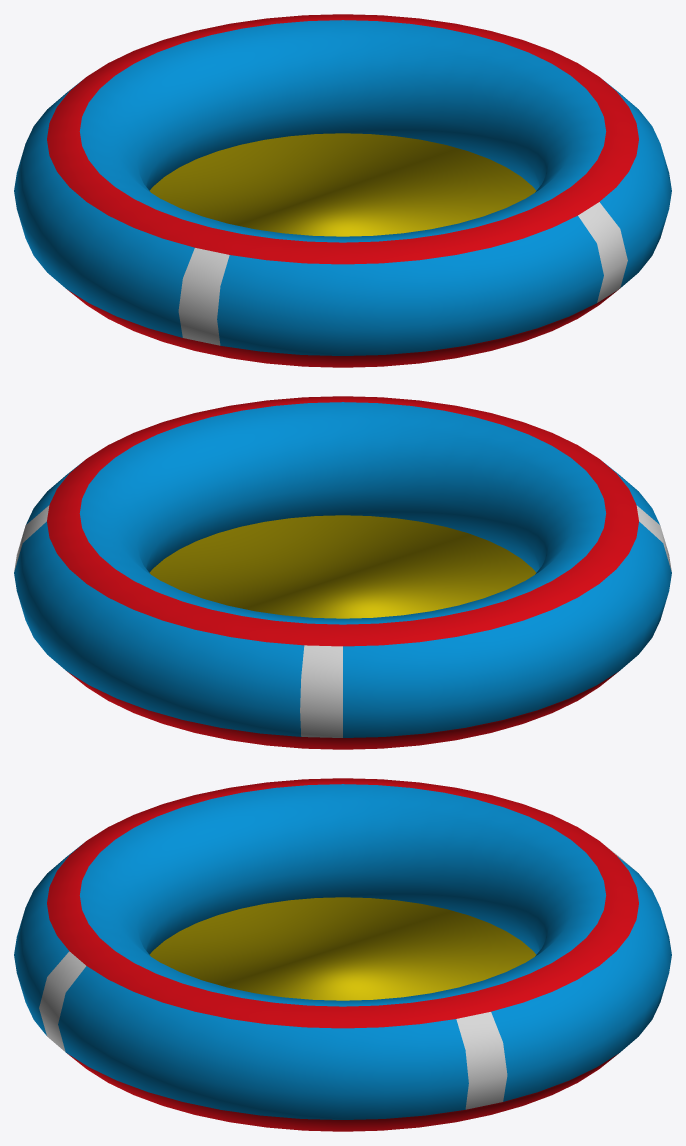
Rendered from OriginalTop.fbx.
3 renders of one model, top to bottom at view 1: azimuth 30°, elevation 25°; view 2: azimuth 150°, elevation 25°; view 3: azimuth 270°, elevation 25°, orthographic.
Visible parts, largest first — view 1: Top; view 2: Top; view 3: Top.
Boxes of the visible parts, <box> form: Top: <box>14,14,671,367</box>; Top: <box>14,396,671,749</box>; Top: <box>14,778,671,1131</box>.
Size of the model in its own units: 39.38 by 11.25 by 39.38.
